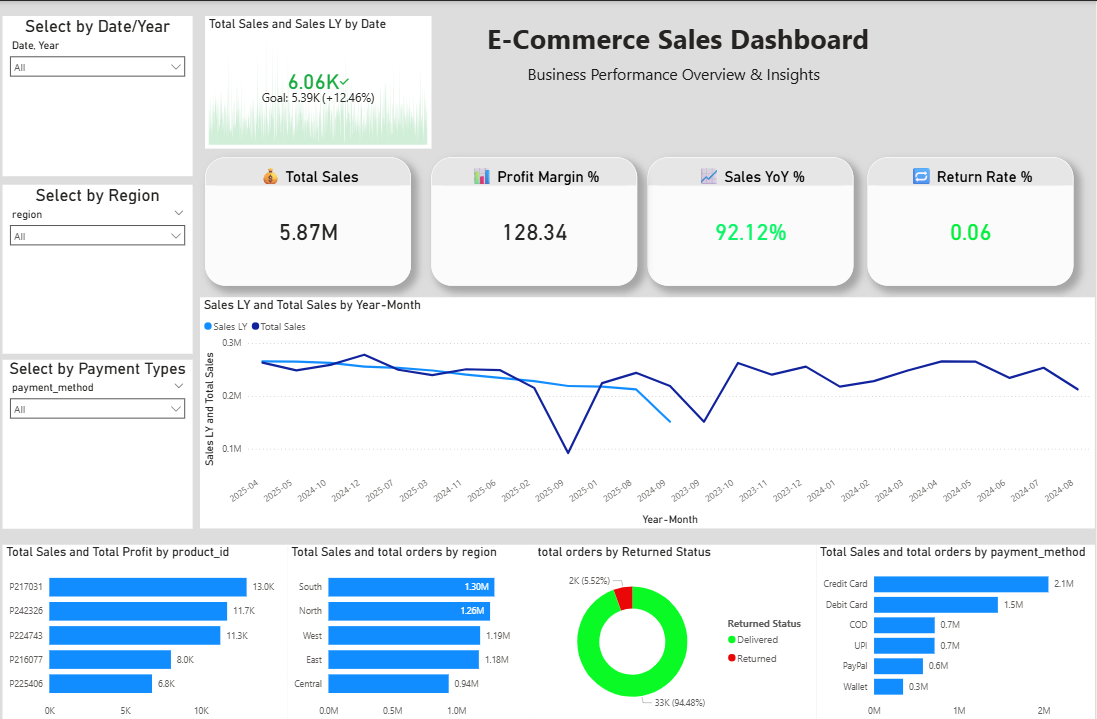

This screenshot's page, from the dashboard's own definition file:
{"tool":"powerbi","page":{"name":"Page 1","canvas":[1500,1000],"ordinal":0},"visuals":[{"type":"card","title":"💰 Total Sales","fields":{"Values":["Measures Table.Total Sales"]},"box":[286.3,213,281.2,175.5],"z":0},{"type":"card","title":"📈 Sales YoY %","fields":{"Values":["Measures Table.Sales YoY %"]},"box":[889.6,213,281.2,175.5],"z":1000},{"type":"card","title":"🔁 Return Rate %","fields":{"Values":["Measures Table.Return rate"]},"box":[1189.5,213,281.2,175.5],"z":2000},{"type":"card","title":"📊 Profit Margin %","fields":{"Values":["Measures Table.Total Profit"]},"box":[594.8,213,281.2,175.5],"z":3000},{"type":"lineChart","fields":{"Category":["DateTable.Year-Month"],"Y":["Measures Table.Total Sales"],"Y2":["Measures Table.Sales LY"]},"box":[279.5,403.9,1220.2,315.3],"z":4000},{"type":"clusteredBarChart","fields":{"Category":["ecommerce_sales_34500.product_id"],"Y":["Measures Table.Total Sales"]},"box":[10.2,741.3,388.6,245.4],"z":5000},{"type":"clusteredBarChart","fields":{"Category":["ecommerce_sales_34500.region"],"Y":["Measures Table.Total Sales"]},"box":[398.8,741.3,335.7,245.4],"z":6000},{"type":"donutChart","fields":{"Category":["ecommerce_sales_34500.Returned Status"],"Y":["Measures Table.total orders"]},"box":[734.5,741.3,385.1,245.4],"z":7000},{"type":"clusteredBarChart","fields":{"Category":["ecommerce_sales_34500.payment_method"],"Y":["Measures Table.Total Sales"]},"box":[1119.6,741.3,380,245.4],"z":7001},{"type":"slicer","title":"Select by Date/Year","fields":{"Values":["DateTable.Date","DateTable.Year"]},"box":[10.2,20.5,259,218.1],"z":7002},{"type":"slicer","title":"Select by Payment Types","fields":{"Values":["ecommerce_sales_34500.payment_method"]},"box":[10.2,489.1,259,230.1],"z":7003},{"type":"slicer","title":"Select by Region","fields":{"Values":["ecommerce_sales_34500.region"]},"box":[10.2,250.5,259,230.1],"z":7004},{"type":"textbox","box":[531.7,20.5,799.3,75],"z":7005},{"type":"textbox","box":[661.2,129.5,528.3,51.1],"z":7006},{"type":"kpi","fields":{"TrendLine":["DateTable.Date"],"Indicator":["Measures Table.Total Sales"],"Goal":["Measures Table.Sales LY"]},"box":[286.3,20.5,308.5,180.6],"z":7007}]}

Visuals, with their boxes in screenshot pixels (x1, y1, x2, y2), scaled from the page's 1500x1000 canvas onto the 1097x719 screenshot:
"💰 Total Sales" card: [left=209, top=153, right=415, bottom=279]
"📈 Sales YoY %" card: [left=651, top=153, right=856, bottom=279]
"🔁 Return Rate %" card: [left=870, top=153, right=1076, bottom=279]
"📊 Profit Margin %" card: [left=435, top=153, right=641, bottom=279]
lineChart - DateTable.Year-Month x Measures Table.Total Sales: [left=204, top=290, right=1096, bottom=517]
clusteredBarChart - ecommerce_sales_34500.product_id x Measures Table.Total Sales: [left=7, top=533, right=292, bottom=709]
clusteredBarChart - ecommerce_sales_34500.region x Measures Table.Total Sales: [left=292, top=533, right=537, bottom=709]
donutChart - ecommerce_sales_34500.Returned Status x Measures Table.total orders: [left=537, top=533, right=819, bottom=709]
clusteredBarChart - ecommerce_sales_34500.payment_method x Measures Table.Total Sales: [left=819, top=533, right=1096, bottom=709]
"Select by Date/Year" slicer: [left=7, top=15, right=197, bottom=172]
"Select by Payment Types" slicer: [left=7, top=352, right=197, bottom=517]
"Select by Region" slicer: [left=7, top=180, right=197, bottom=346]
textbox: [left=389, top=15, right=973, bottom=69]
textbox: [left=484, top=93, right=870, bottom=130]
kpi - DateTable.Date x Measures Table.Total Sales: [left=209, top=15, right=435, bottom=145]
